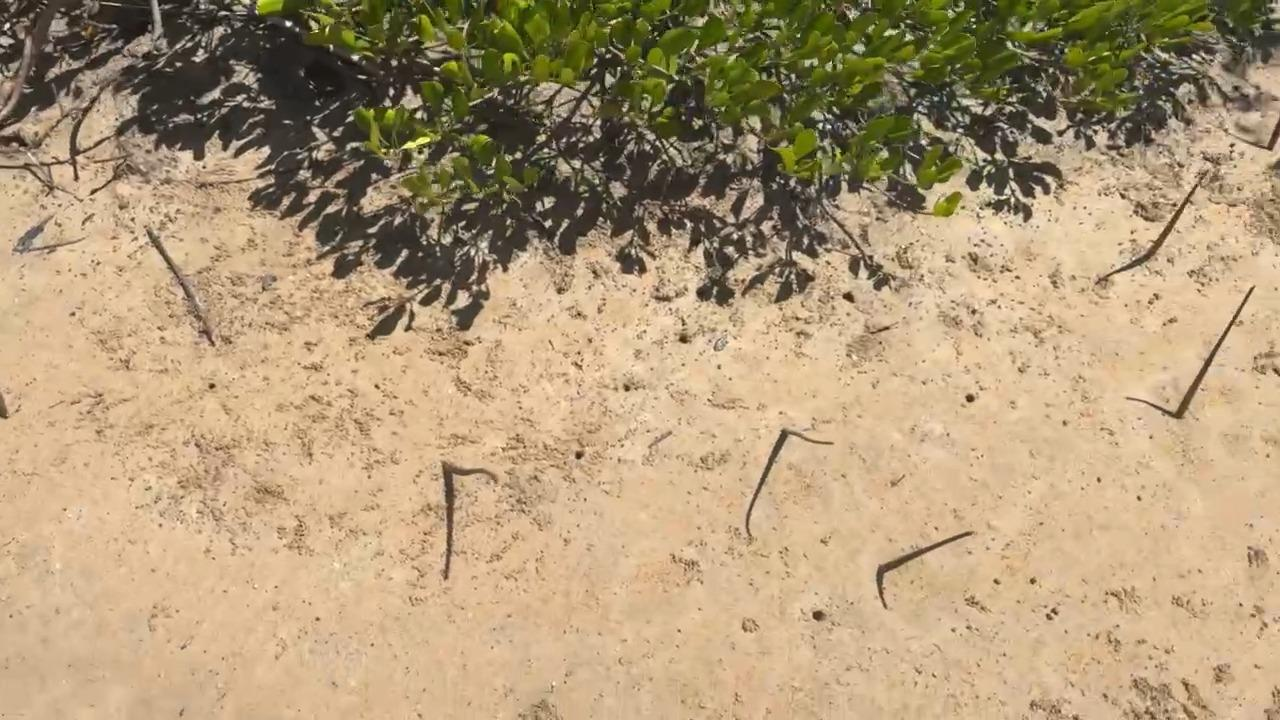Tree: (1173, 283, 1256, 419), (1145, 169, 1212, 258), (878, 531, 975, 575), (439, 459, 497, 485), (779, 427, 833, 445), (1267, 117, 1280, 152), (0, 391, 11, 418)
